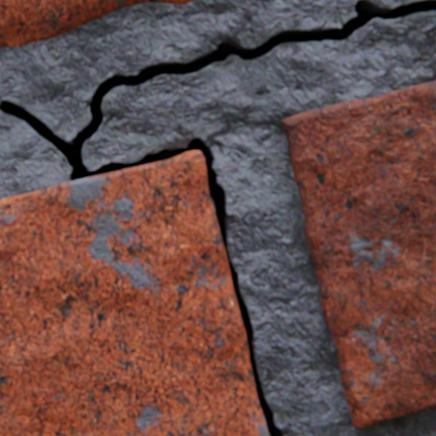brick: (0, 150, 268, 435), (281, 81, 435, 427), (0, 0, 195, 48)
crack: (0, 0, 435, 435)
